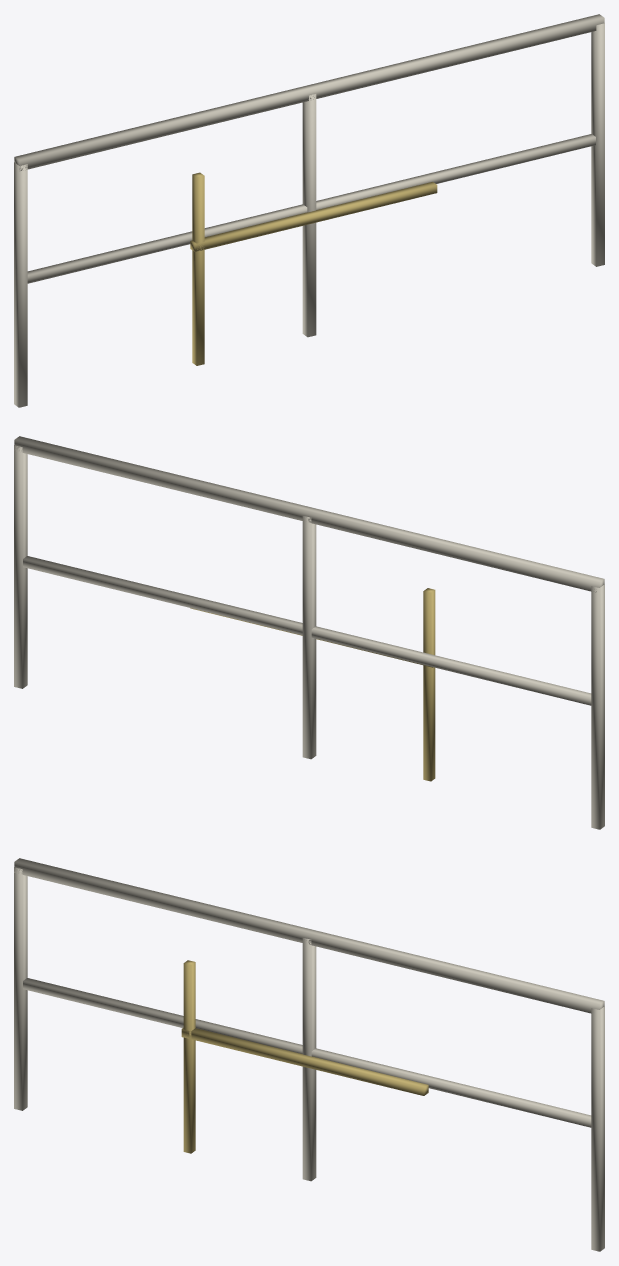
File: civic_gate_l300_h120.glb
3 views of the same model, one above another, from view 1: azimuth 30°, elevation 25°; view 2: azimuth 150°, elevation 25°; view 3: azimuth 330°, elevation 25° (orthographic).
Visible parts, largest first — view 1: world; view 2: world; view 3: world.
Part boxes in pixels (x1,y1,x2,y2): world: (14, 14, 604, 407); world: (14, 436, 604, 829); world: (14, 858, 604, 1251).
Bounding box in the file's own units: 3.05 × 1.23 × 0.0825.
